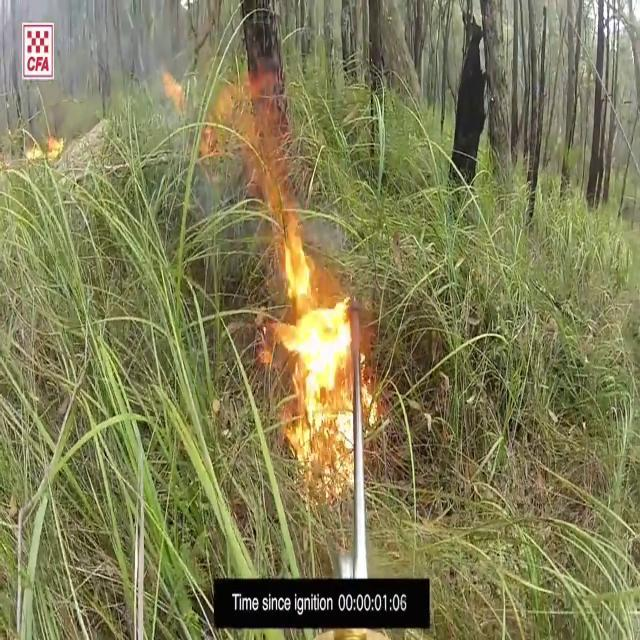Fire: (241, 70, 373, 474)
